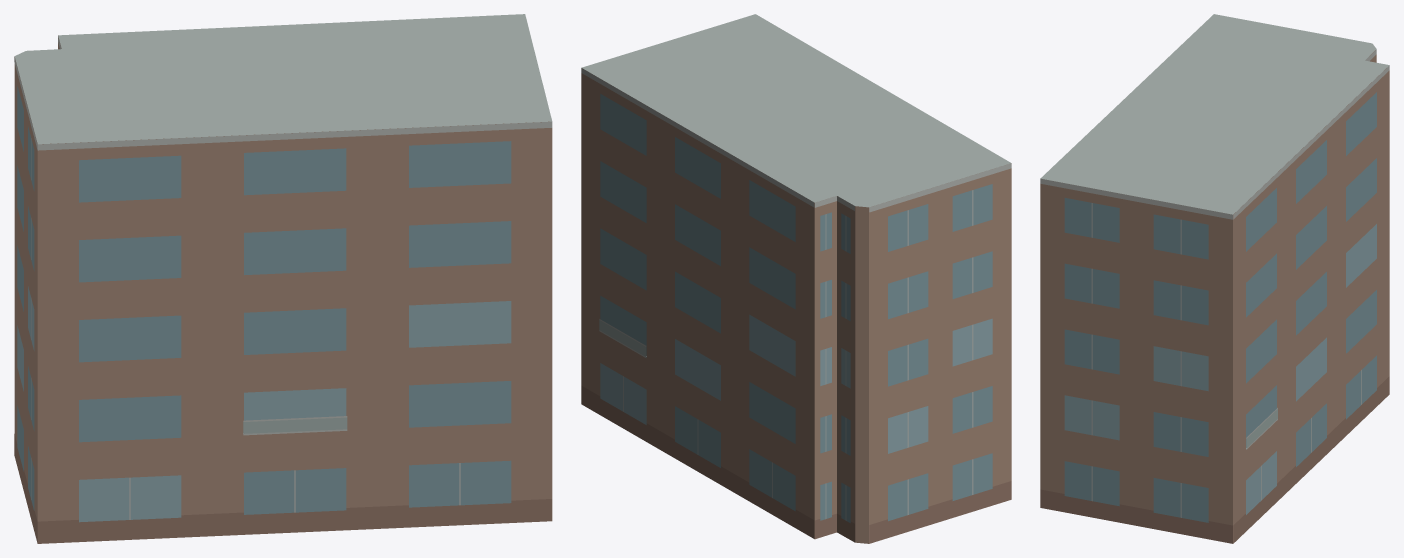
File: survey-upis-32632852.glb
3 renders of one model, left to right at view 1: azimuth 30°, elevation 25°; view 2: azimuth 150°, elevation 25°; view 3: azimuth 270°, elevation 25°, orthographic. The views are drawn at different scales.
Parts seen in each view (by area): view 1: survey-upis-32632852.tmp; view 2: survey-upis-32632852.tmp; view 3: survey-upis-32632852.tmp.
Boxes of the visible parts, x1=… form: survey-upis-32632852.tmp: x1=14, y1=14, x2=552, y2=543; survey-upis-32632852.tmp: x1=581, y1=14, x2=1011, y2=543; survey-upis-32632852.tmp: x1=1040, y1=14, x2=1389, y2=543.
Bounding box in the file's own units: 20.53 × 15.7 × 15.11.
